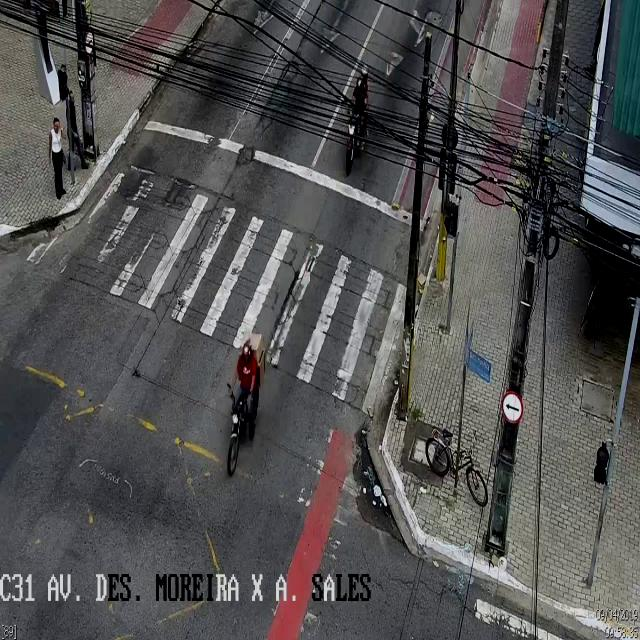Motorcycle: (223, 330, 263, 476), (344, 64, 369, 178)
